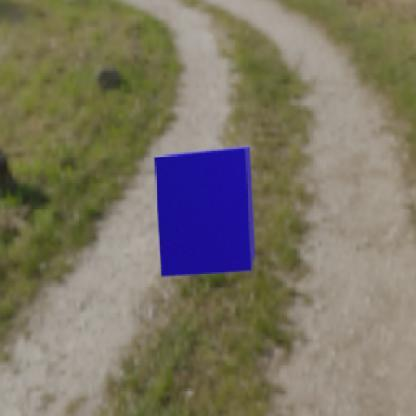cube: (152, 146, 255, 277)
